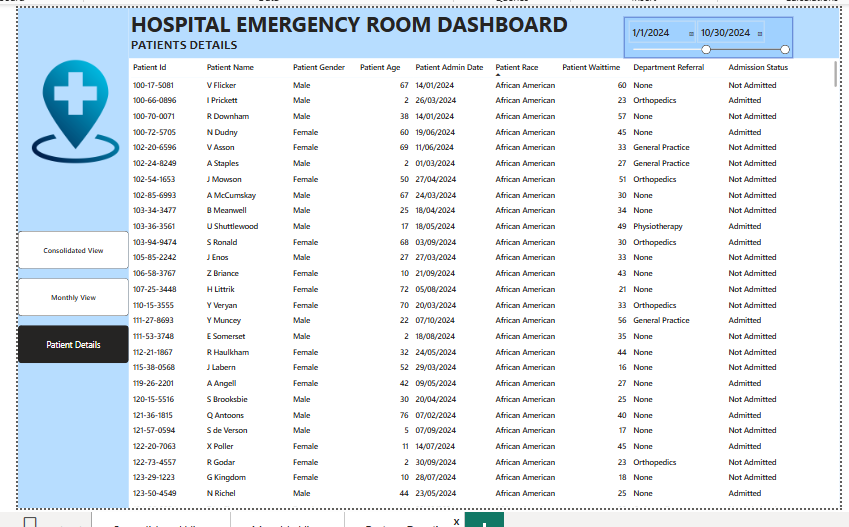

The dashboard page shown, as its layout file describes it:
{"tool":"powerbi","page":{"name":"Patient Details","canvas":[2300,1400],"ordinal":2},"visuals":[{"type":"shape","box":[0,0,310,1400.5],"z":1000},{"type":"shape","box":[310.8,0,1988,140],"z":2000},{"type":"textbox","box":[310.9,0,1334.1,141.9],"z":3000},{"type":"textbox","box":[310.9,72.4,319.9,66.4],"z":4000},{"type":"image","box":[11.2,140,299.6,299.6],"z":42000},{"type":"tableEx","fields":{"Values":["Hospital ER_Data.Patient Id","Hospital ER_Data.Patient Name","Hospital ER_Data.Patient Gender","Hospital ER_Data.Patient Age","Hospital ER_Data.Patient Admin Date","Hospital ER_Data.Patient Race","Hospital ER_Data.Patient Waittime","Hospital ER_Data.Department Referral","Hospital ER_Data.Admission Status"]},"box":[310.8,142.8,1988,1257.2],"z":42001},{"type":"slicer","fields":{"Values":["Date Table.Date"]},"box":[1696.8,25.2,473.2,114.8],"z":42002},{"type":"pageNavigator","box":[0,624.4,310.8,372.4],"z":42003}]}

Visuals, with their boxes in screenshot pixels (x1, y1, x2, y2), scaled from the page's 2300x1400 canvas onto the 849x527 screenshot:
shape: BBox(0, 0, 114, 526)
shape: BBox(115, 0, 848, 53)
textbox: BBox(115, 0, 607, 53)
textbox: BBox(115, 27, 233, 52)
image: BBox(4, 53, 115, 165)
tableEx - Hospital ER_Data.Patient Id x Hospital ER_Data.Patient Name: BBox(115, 54, 848, 526)
slicer - Date Table.Date: BBox(626, 9, 801, 53)
pageNavigator: BBox(0, 235, 115, 375)
